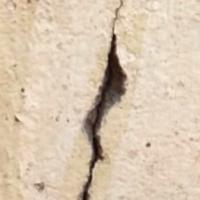crack: (68, 0, 169, 199)
